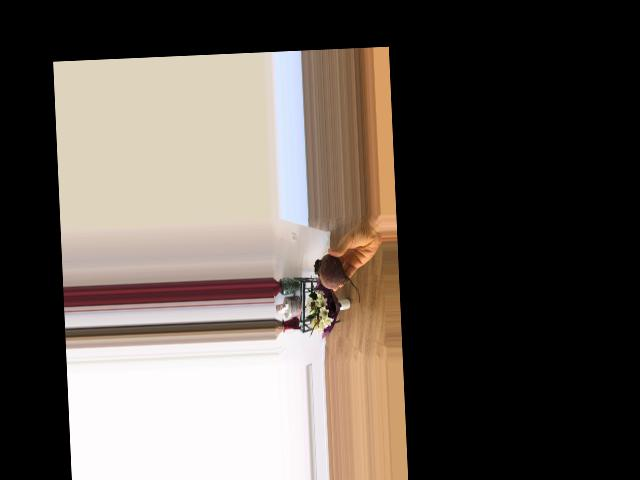beet: (313, 253, 360, 306)
